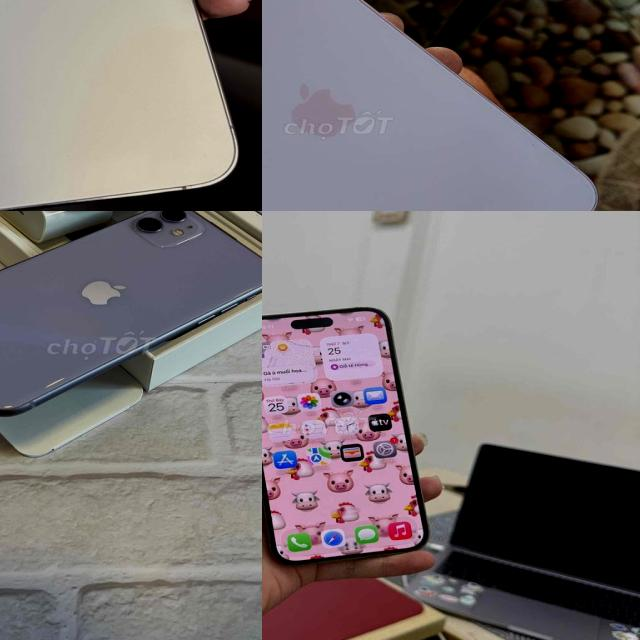scratch: (529, 143, 539, 148)
